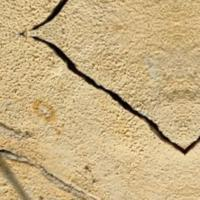crack: (13, 0, 199, 175)
